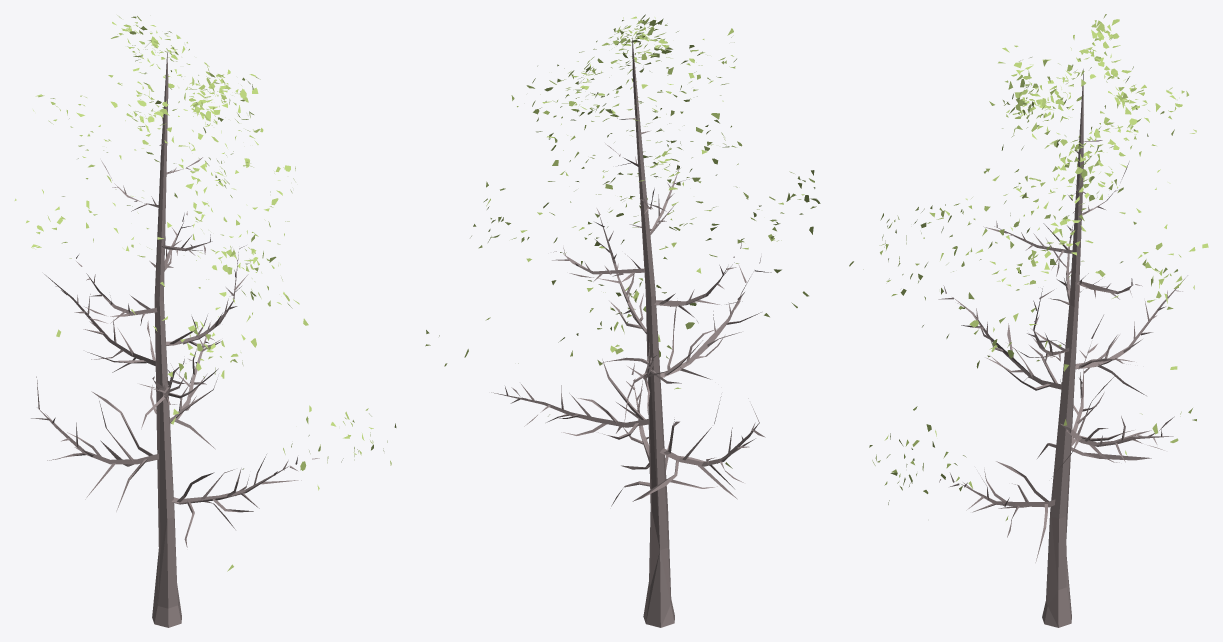
File: tree_sassafras.glb
3 renders of one model, left to right at view 1: azimuth 30°, elevation 25°; view 2: azimuth 150°, elevation 25°; view 3: azimuth 270°, elevation 25°, orthographic. The views are drawn at different scales.
Parts seen in each view (by area): view 1: trunk, leaves; view 2: trunk, leaves; view 3: trunk, leaves.
Boxes of the visible parts, box(x1,y1,x2,y2) form: trunk: box(31, 51, 319, 627); leaves: box(14, 15, 396, 571); trunk: box(491, 37, 771, 627); leaves: box(425, 14, 820, 468); trunk: box(938, 69, 1187, 627); leaves: box(849, 14, 1208, 520).
Size of the model in its own units: 4.68 by 9.34 by 5.12.
